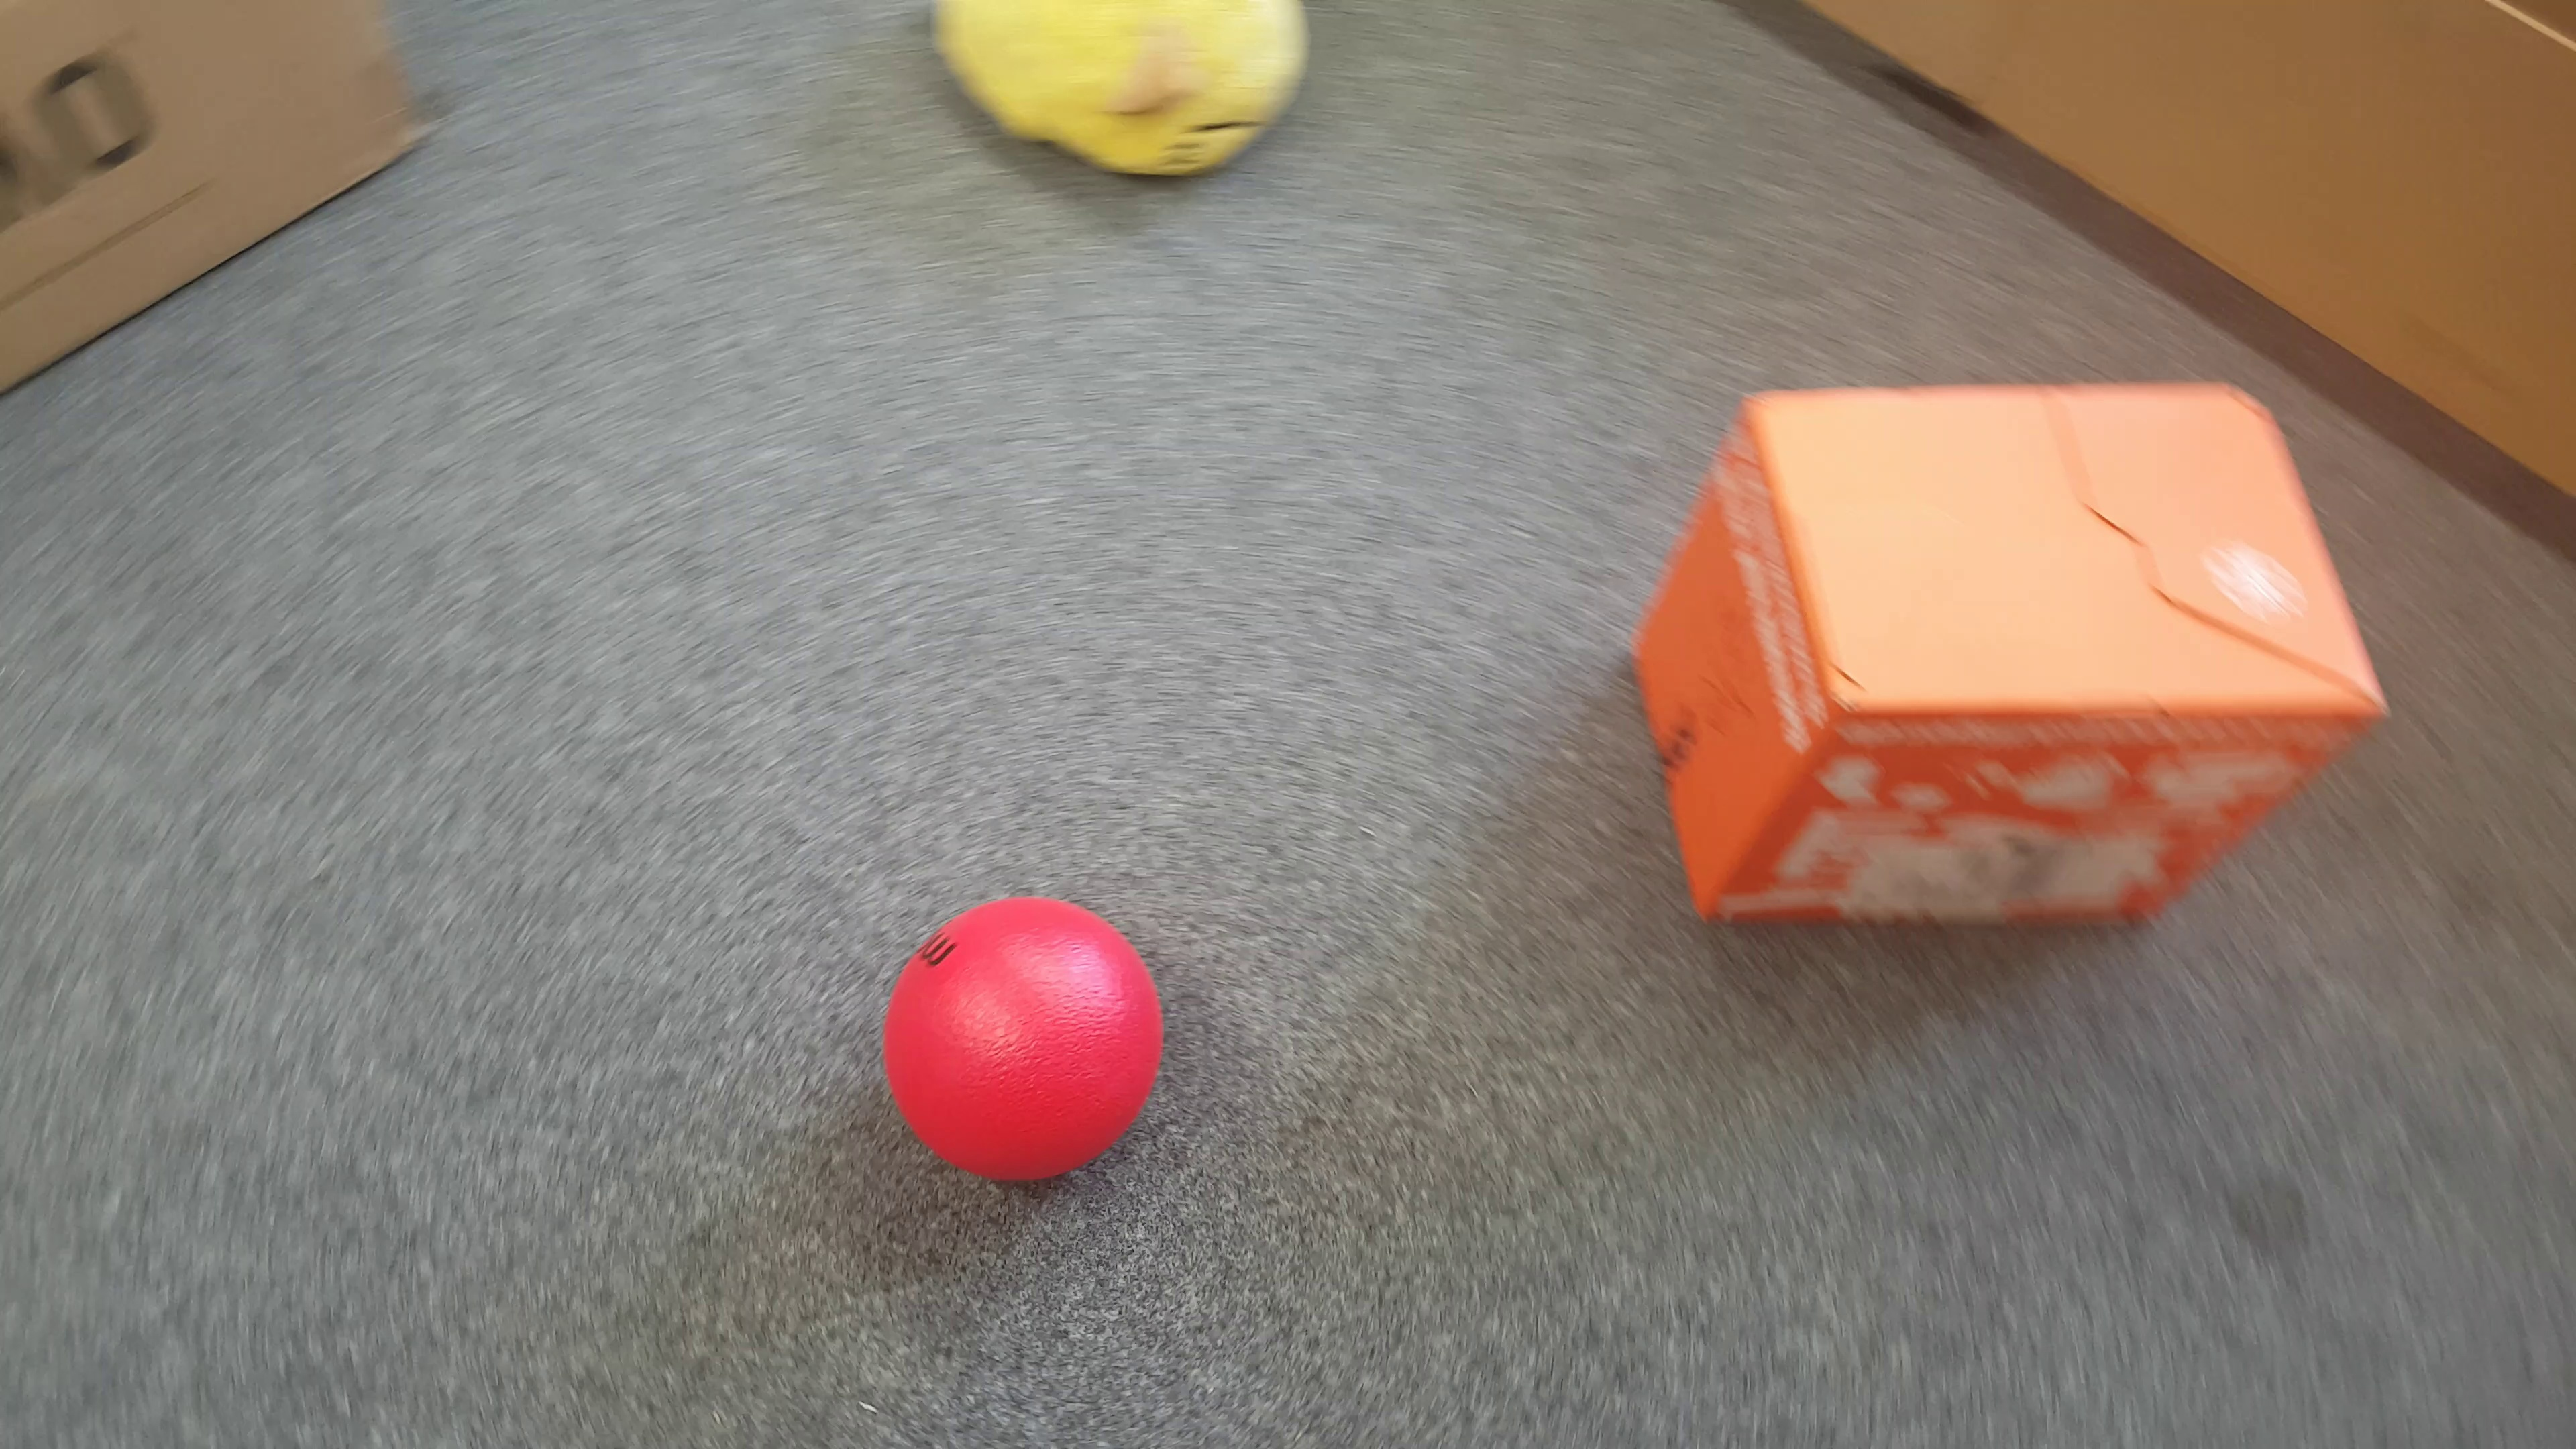grasp: (931, 4, 1306, 184)
kick: (883, 892, 1166, 1189)
push: (1633, 384, 2396, 927)
